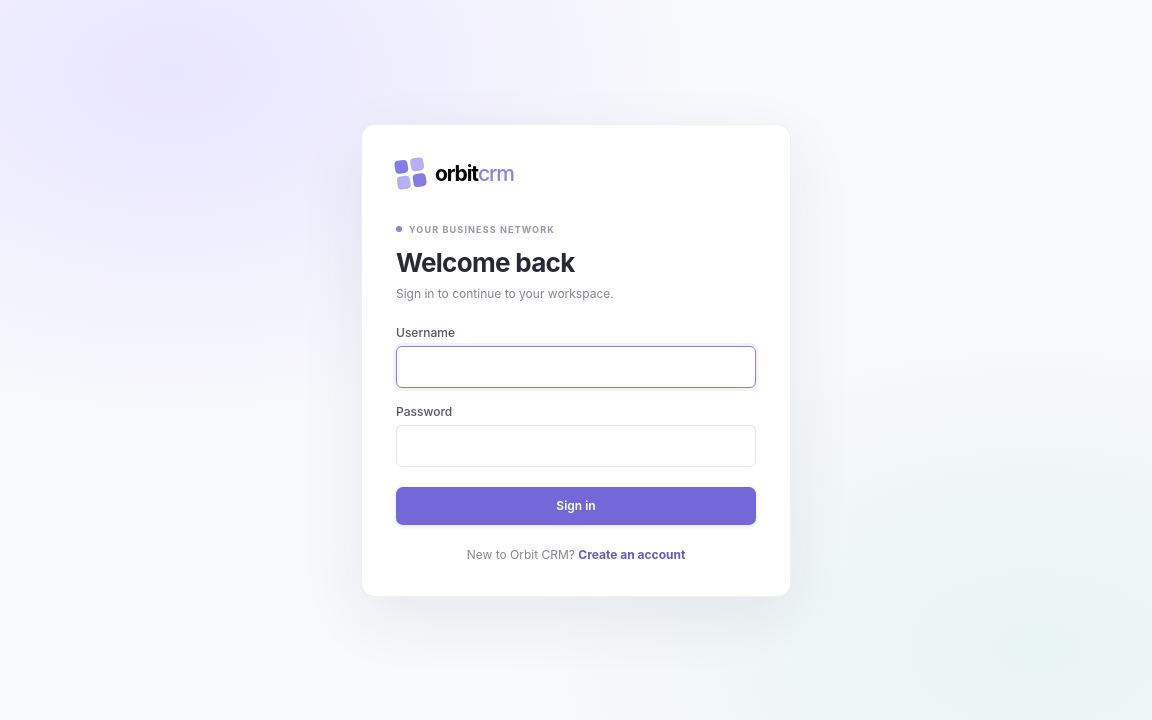
Test: signs out and clears the authenticated session
Type "taylor" into the field labelled "Username".
click(576, 366); type("taylor")  # box x1=396 y1=346 x2=756 y2=388
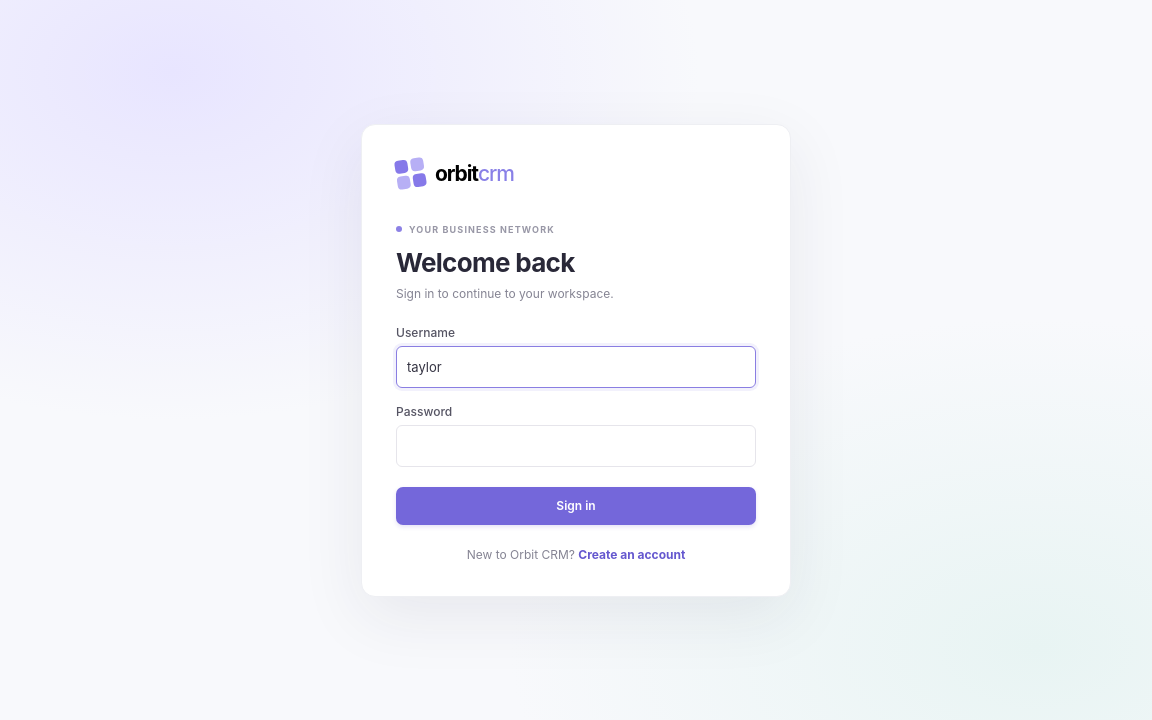
Type "a-long-unique-password" into the password field labelled "Password".
click(576, 446); type("a-long-unique-password")  # box x1=396 y1=424 x2=756 y2=466
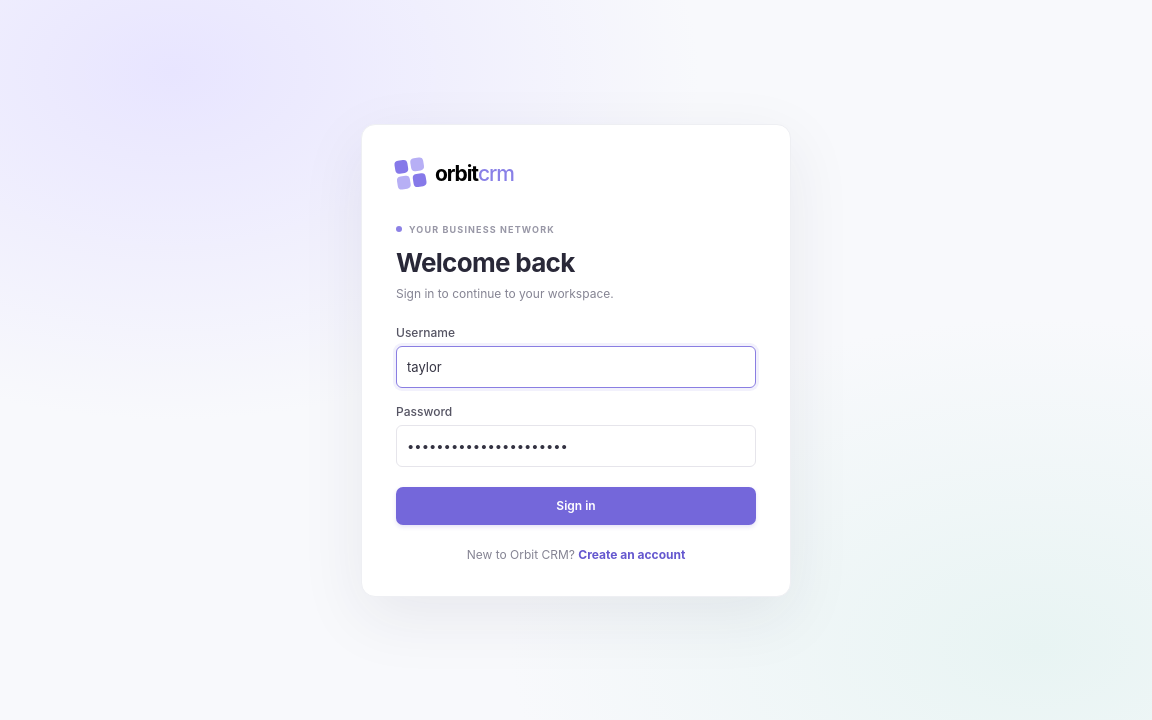
Click the button "Sign in".
click(576, 506)  # box x1=396 y1=486 x2=756 y2=524
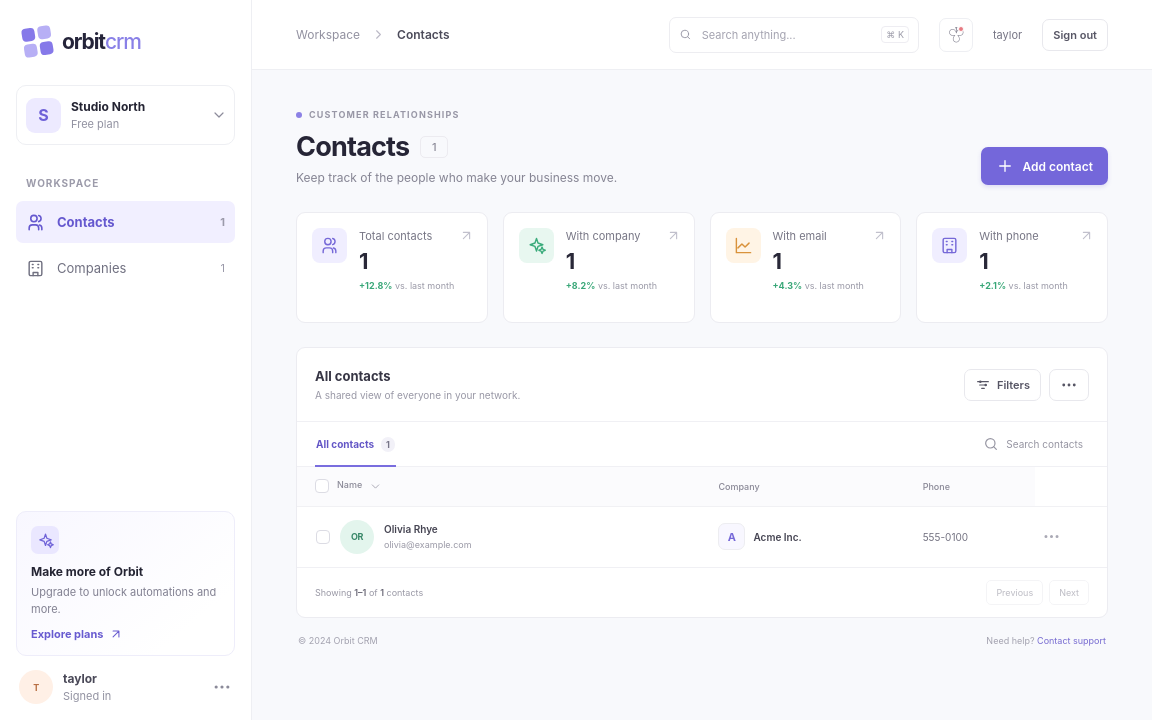
Check: the text "Sign in" is gone
Click the button "Sign out".
click(1075, 34)  # box x1=1042 y1=18 x2=1108 y2=50
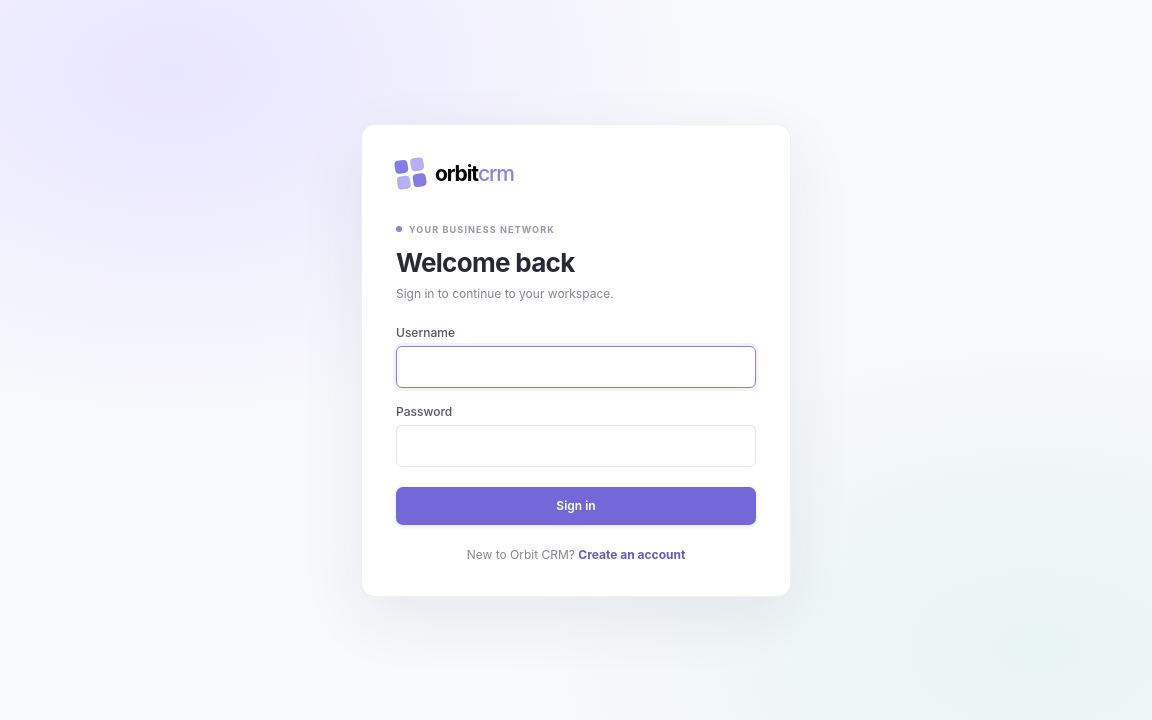
Check: the heading "Welcome back" is shown, box x1=396 y1=246 x2=575 y2=278
Check: the button "Olivia Rhye" is gone
